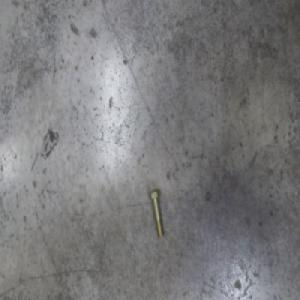Bolt: (148, 187, 165, 237)
